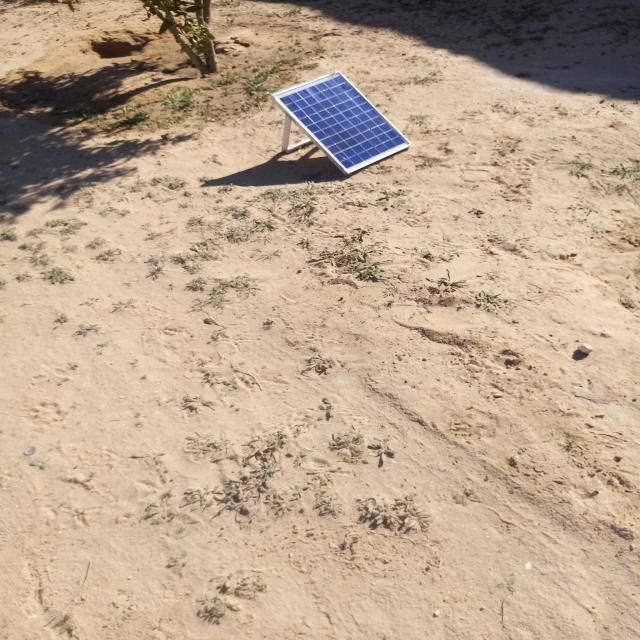Normal Solar Panel: (273, 72, 411, 174)
